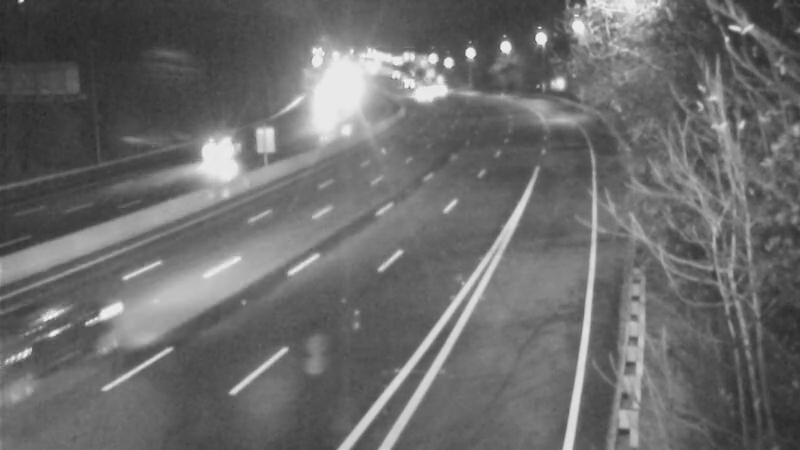vehicle: (1, 283, 103, 393), (180, 114, 260, 194), (381, 54, 431, 104), (409, 63, 459, 113), (399, 70, 449, 120)
